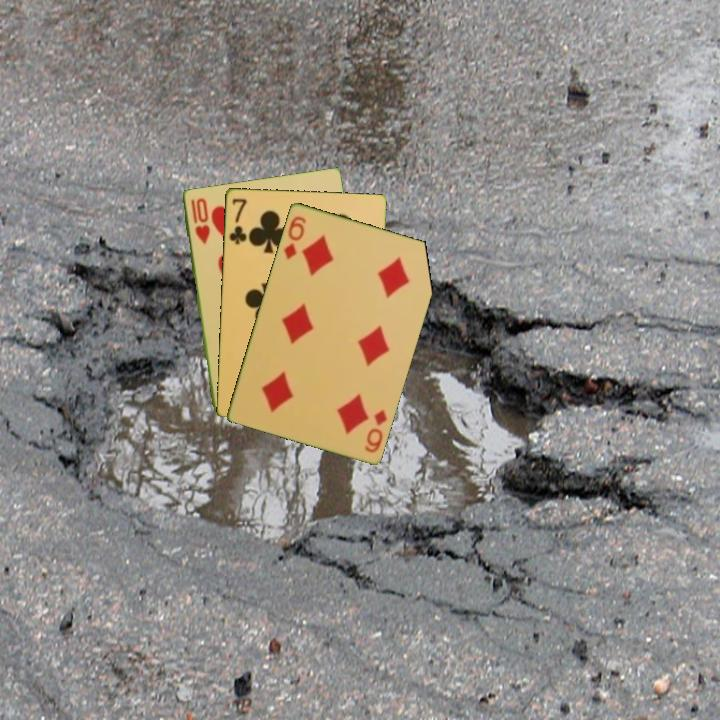10h: (187, 194, 212, 247)
6d: (280, 212, 309, 262), (361, 405, 390, 455)
7c: (226, 195, 249, 247)
